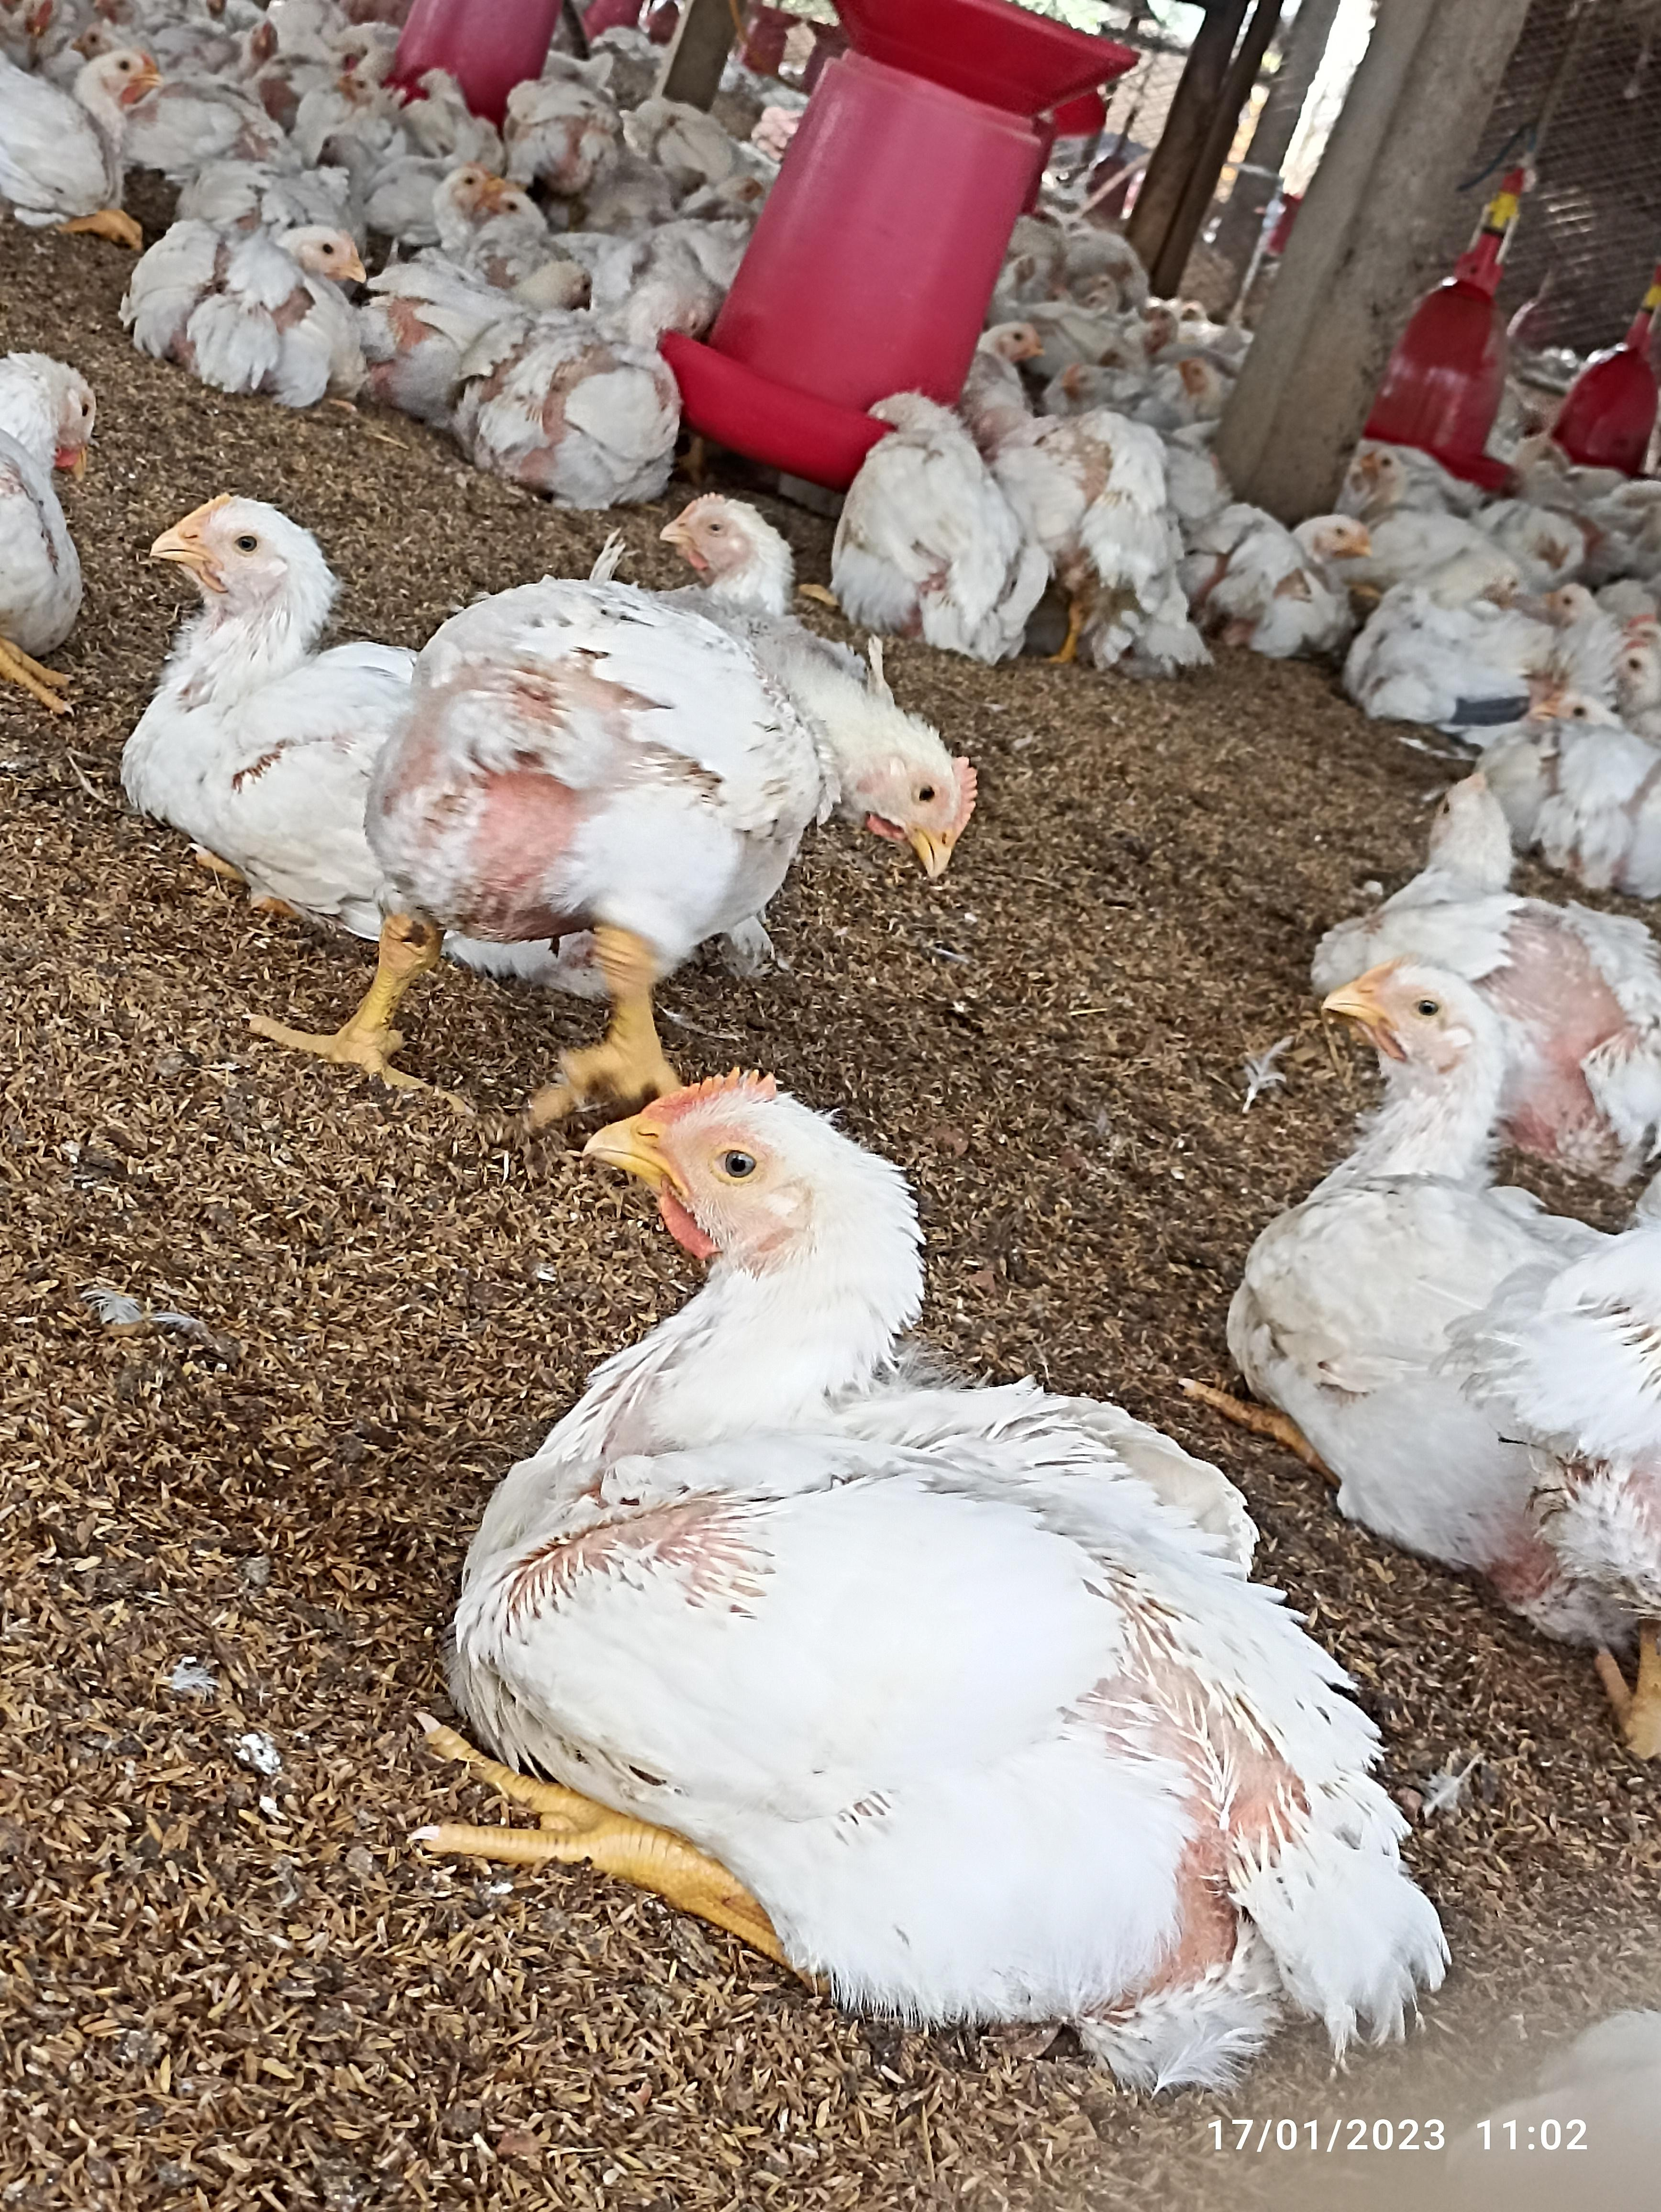Pollos: (515, 1069, 1242, 1790), (1263, 961, 1661, 1497), (436, 586, 967, 968), (143, 492, 414, 883), (858, 304, 1057, 651), (450, 283, 703, 520), (1480, 675, 1661, 877), (164, 202, 363, 384), (0, 40, 161, 202), (1209, 502, 1378, 647)
